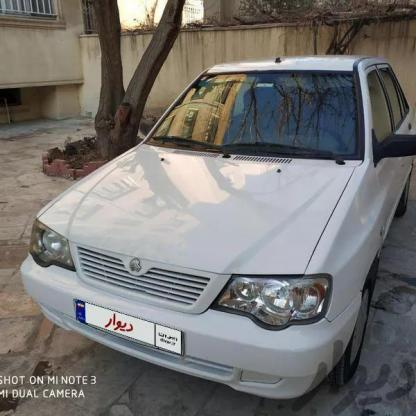Car: (27, 58, 416, 411)
